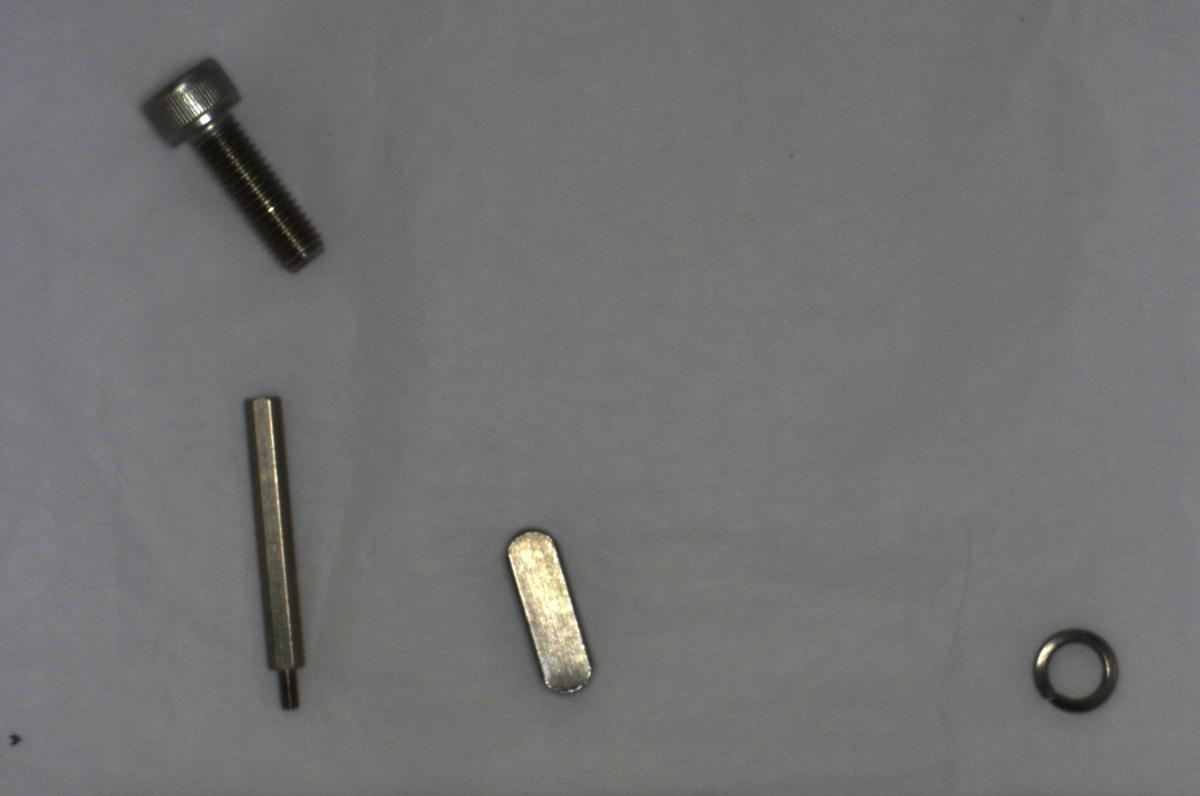Hexagon screw: (130, 39, 335, 280)
Hexagonal steel column: (227, 382, 319, 719)
Keybar: (493, 518, 600, 703)
Spring washer: (1027, 623, 1120, 716)
